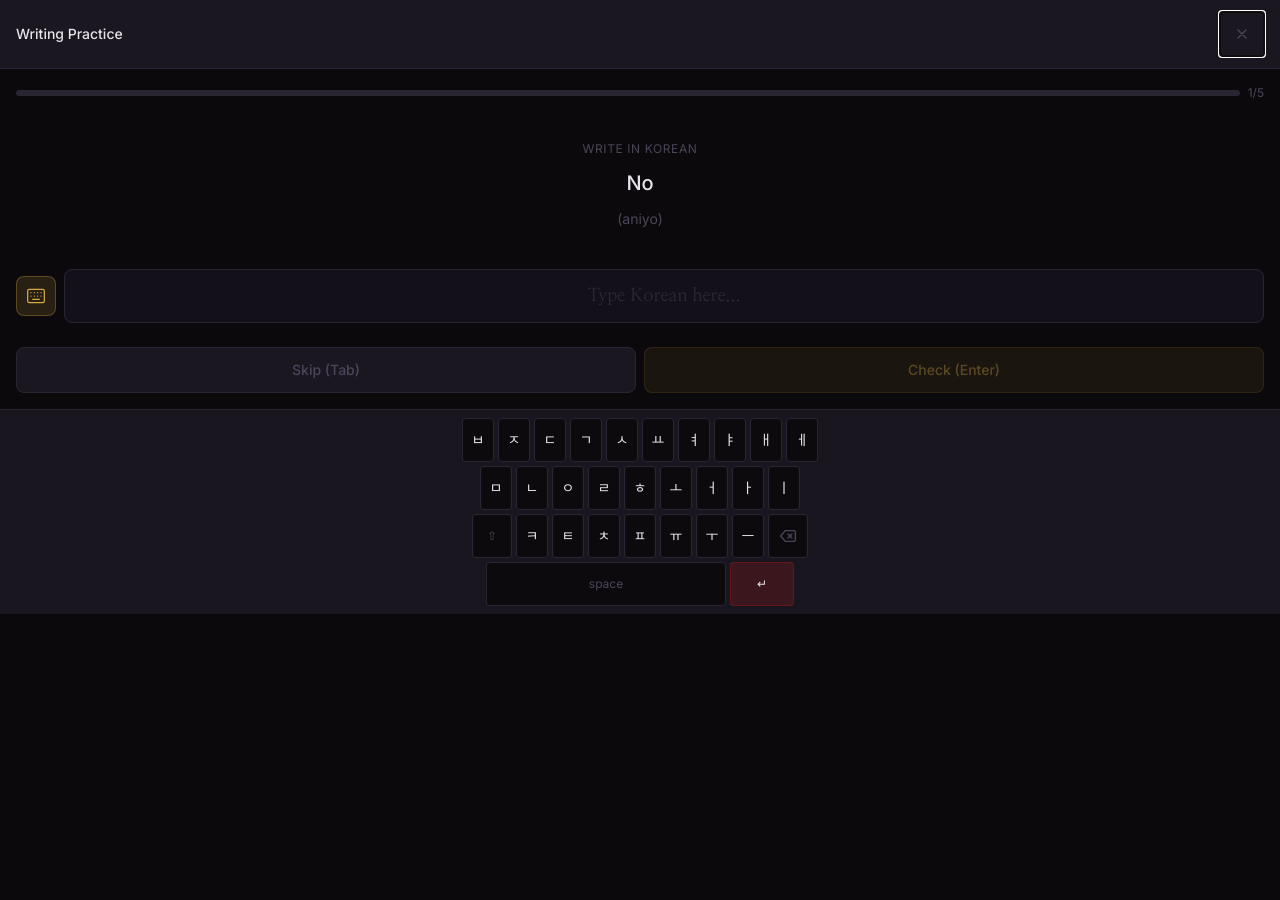
Test: WritingMode › answer checking › shows Incorrect for wrong answer
Type "완전히다른답" into the field with placeholder "Type Korean here...". click: coordinates (664, 296)
box: [64, 269, 1264, 323]
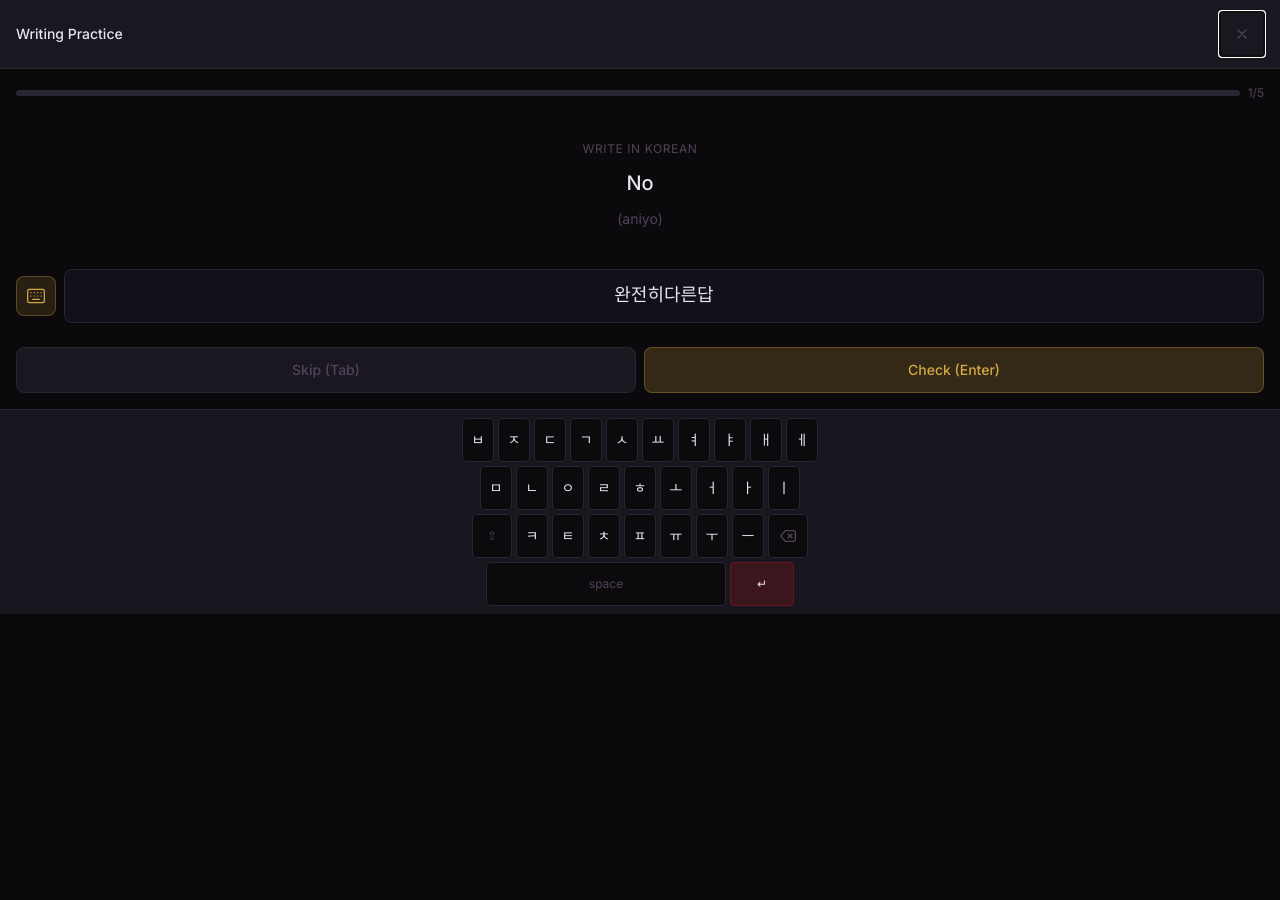
Click the button "Check (Enter)". click: coordinates (954, 370)
box: [644, 347, 1264, 393]
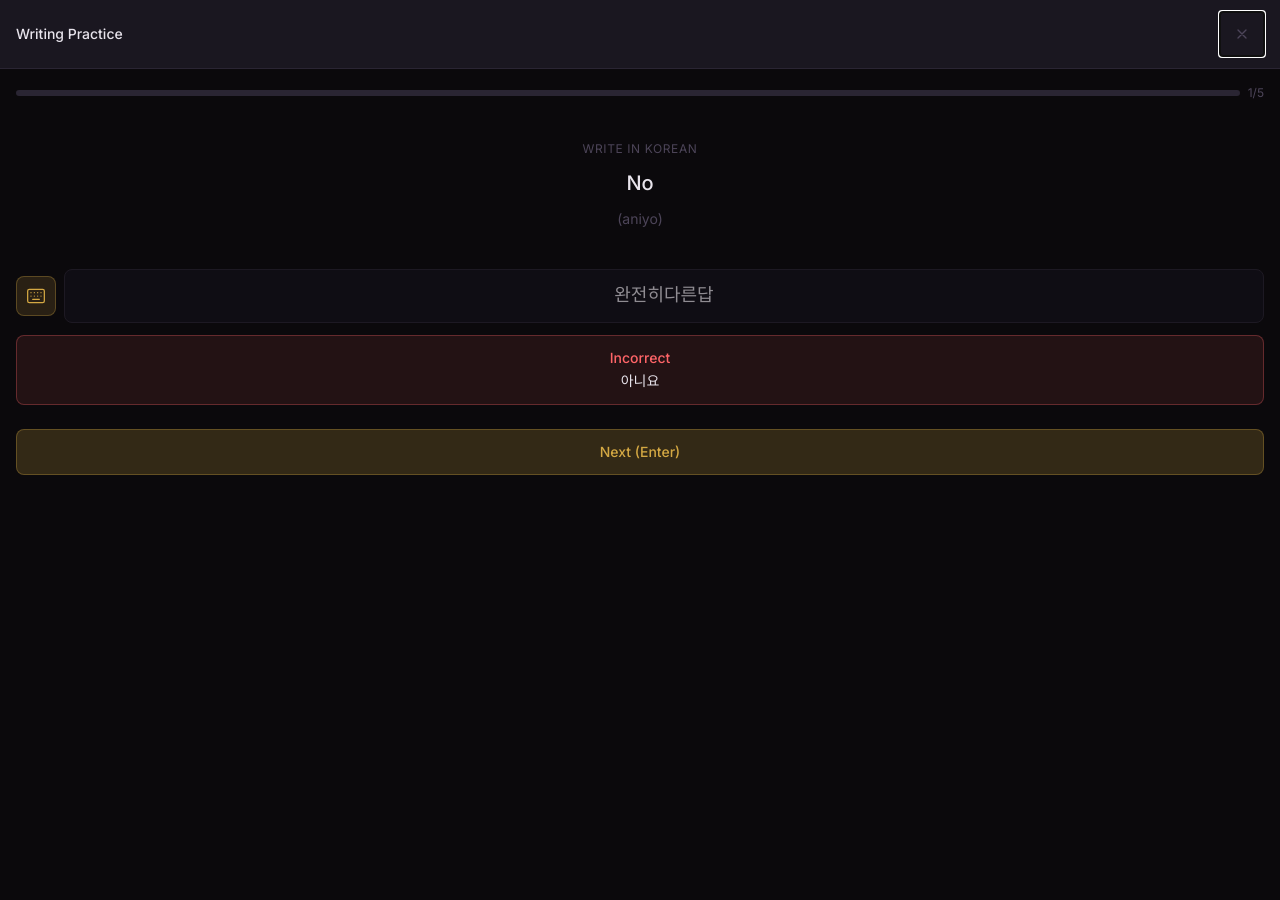
Now the text "Incorrect" is shown, box [610, 349, 670, 366]
